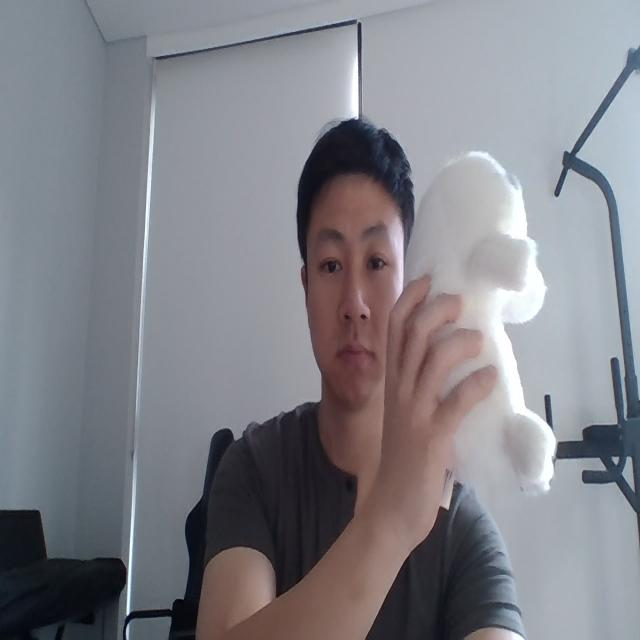seal_bb: (405, 152, 557, 496)
